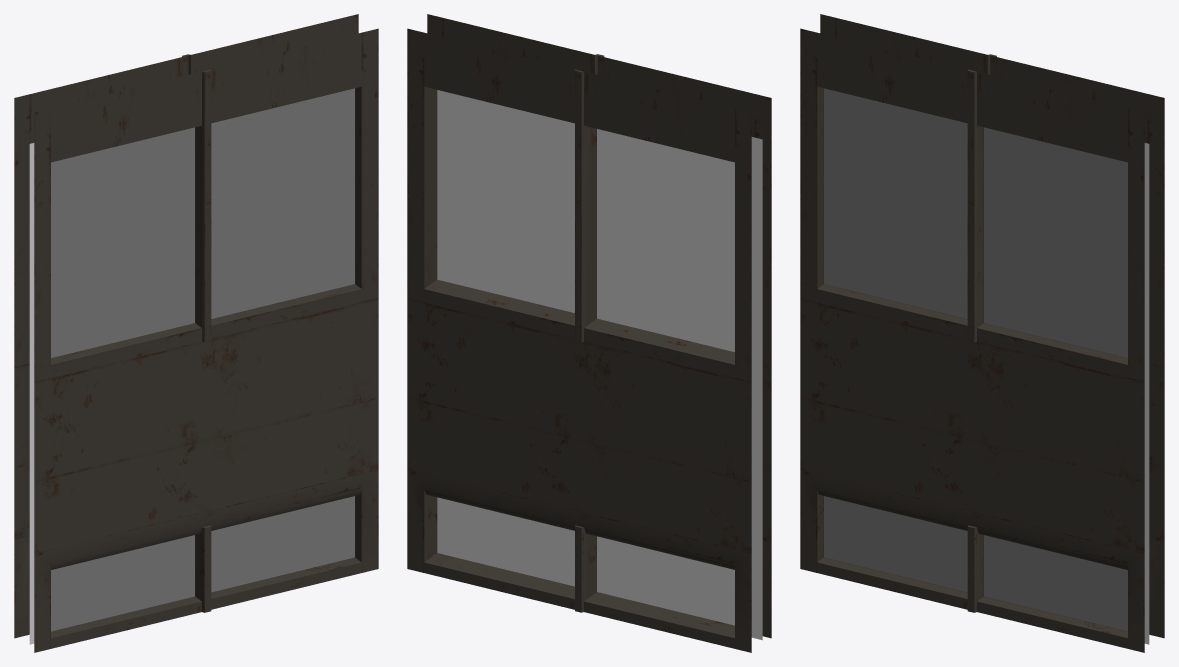
Rendered from Metal_Window_Half.glb.
The picture shows the model from 3 angles, left to right: view 1: azimuth 30°, elevation 25°; view 2: azimuth 150°, elevation 25°; view 3: azimuth 330°, elevation 25°; orthographic projection.
Parts seen in each view (by area): view 1: Metal_Window_Half; view 2: Metal_Window_Half; view 3: Metal_Window_Half.
Part boxes in pixels (x1,y1,x2,y2): Metal_Window_Half: [14, 14, 378, 652]; Metal_Window_Half: [407, 14, 771, 652]; Metal_Window_Half: [800, 14, 1164, 652].
Size of the model in its own units: 2 by 3 by 0.2287.
Materials: 3 (1 with a texture image).
